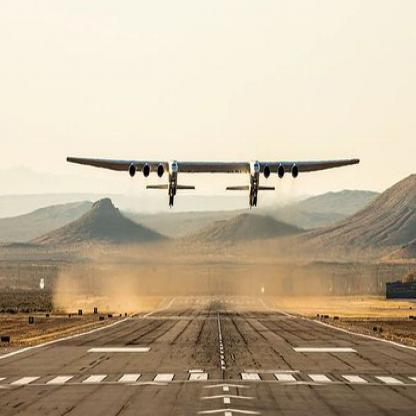CIV_Plane: (63, 152, 360, 208)
